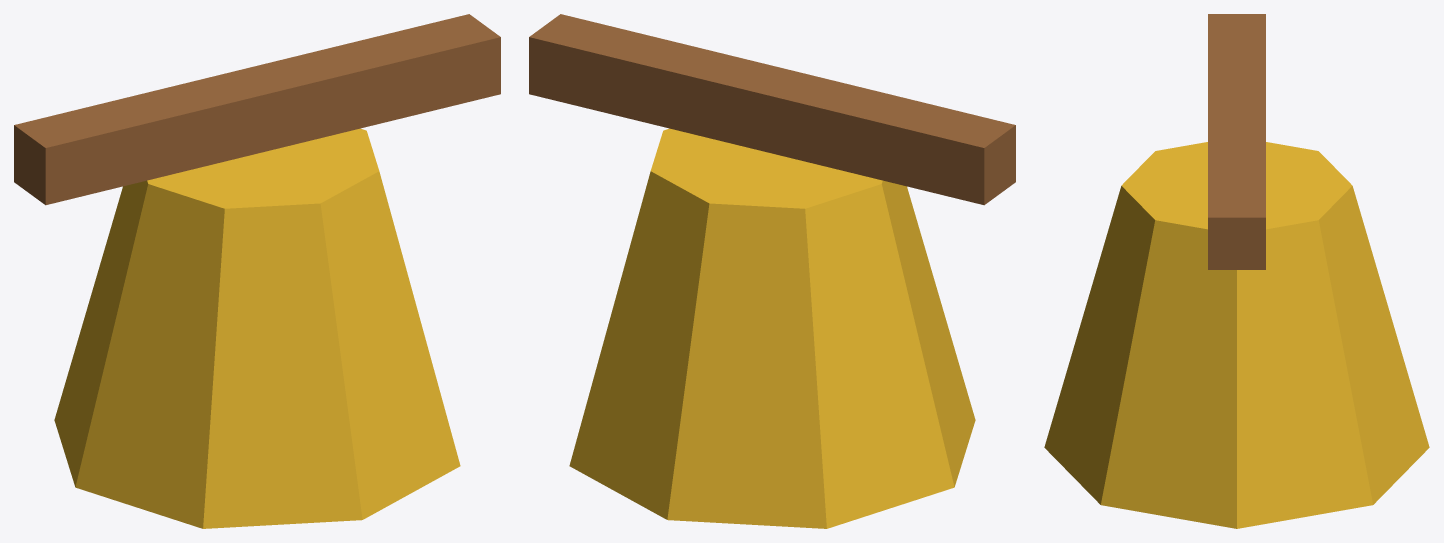
Rendered from cow_bell.glb.
The picture shows the model from 3 angles, left to right: view 1: azimuth 30°, elevation 25°; view 2: azimuth 150°, elevation 25°; view 3: azimuth 270°, elevation 25°; orthographic projection. The views are drawn at different scales.
Parts seen in each view (by area): view 1: cow_bell; view 2: cow_bell; view 3: cow_bell.
Part boxes in pixels (x1=…): cow_bell: x1=14, y1=14, x2=500, y2=528; cow_bell: x1=529, y1=14, x2=1015, y2=528; cow_bell: x1=1044, y1=14, x2=1429, y2=528.
Size of the model in its own units: 0.25 by 0.19 by 0.2.
